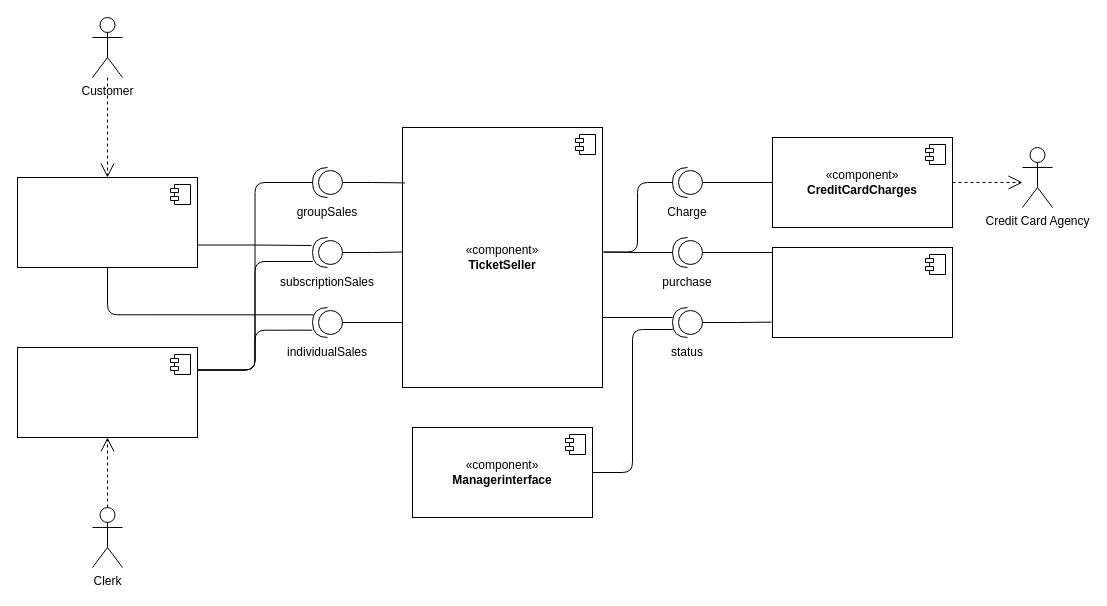
Some shapes in this 1107 by 606 pixel diagram are drawn without their labels. The centre of each missing label's shape, as x and y in pixels:
«component» Clerkinterface: point 107,392
«component» Kioskinterface: point 107,222
«component» TicketDB: point 862,292
